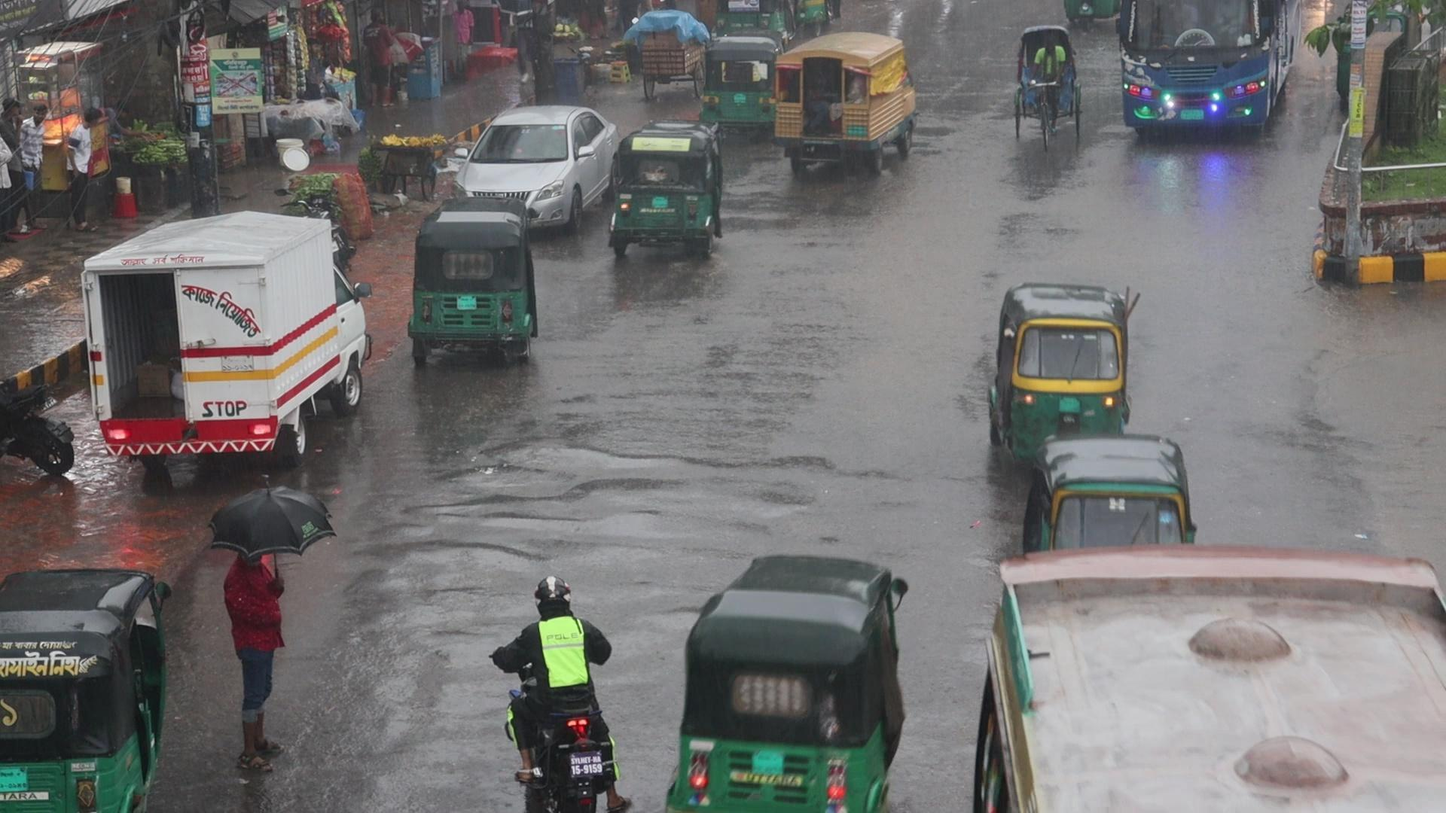Bike: (488, 574, 624, 813)
Truck: (773, 30, 920, 178)
